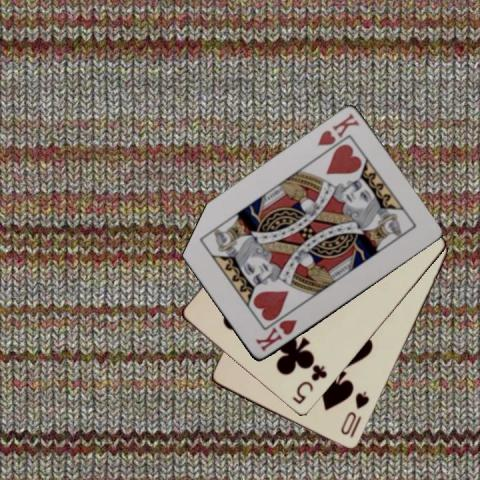10s: (338, 389, 371, 437)
5c: (288, 362, 328, 406)
Kh: (252, 317, 299, 354), (314, 111, 361, 148)
